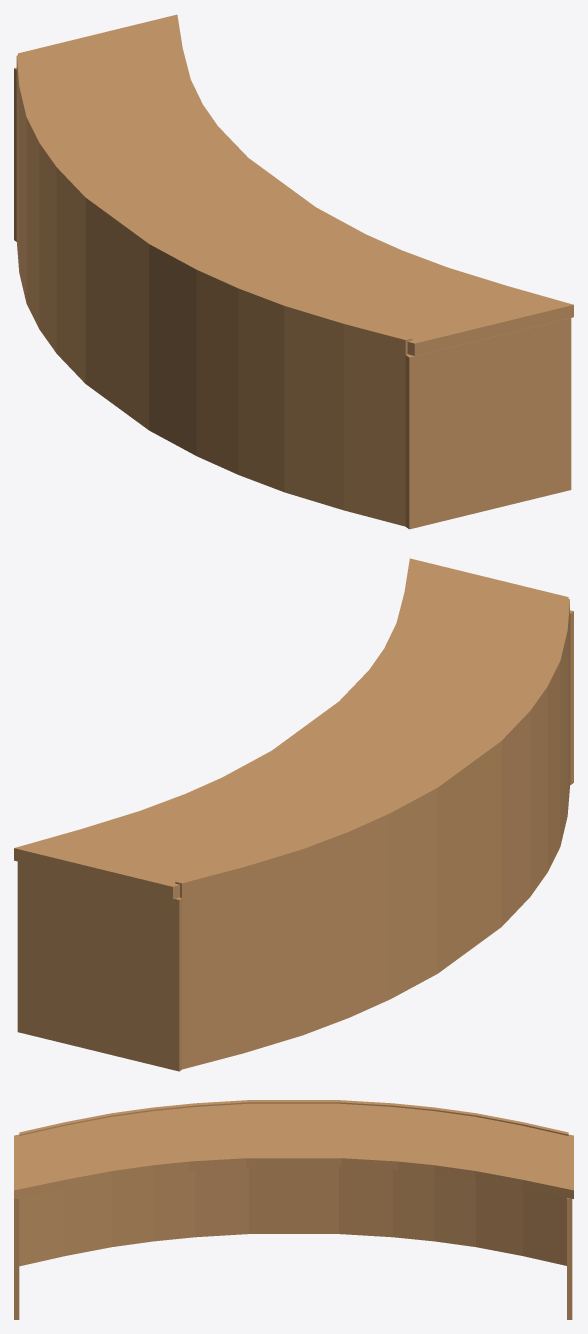
Rendered from Balie.fbx.
3 views of the same model, one above another, from view 1: azimuth 30°, elevation 25°; view 2: azimuth 150°, elevation 25°; view 3: azimuth 270°, elevation 25° (orthographic). The views are drawn at different scales.
Visible parts, largest first — view 1: Cube.060, Cube.064, Cube.063; view 2: Cube.060, Cube.064, Cube.062, Cube.063; view 3: Cube.060, Cube.064, Cube.062, Cube.063.
Part boxes in pixels (x1,y1,x2,y2): Cube.060: [16, 54, 412, 526]; Cube.064: [18, 14, 573, 355]; Cube.063: [405, 318, 571, 529]; Cube.060: [175, 597, 569, 1069]; Cube.064: [14, 558, 568, 899]; Cube.062: [17, 861, 182, 1071]; Cube.063: [570, 610, 573, 785]; Cube.060: [19, 1100, 568, 1266]; Cube.064: [14, 1103, 573, 1198]; Cube.062: [567, 1198, 572, 1319]; Cube.063: [14, 1198, 19, 1319].
Size of the model in its own units: 315 by 217 by 836.
